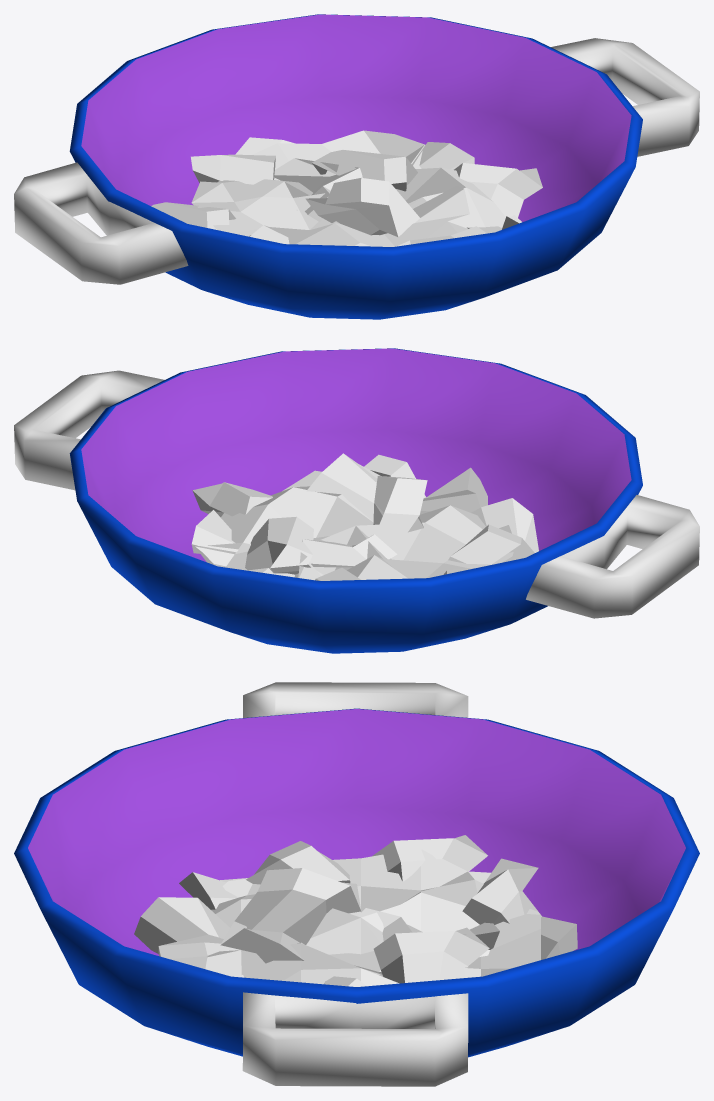
Rendered from ScrambledEggWokCooked.fbx.
3 views of the same model, one above another, from view 1: azimuth 30°, elevation 25°; view 2: azimuth 150°, elevation 25°; view 3: azimuth 270°, elevation 25° (orthographic). The views are drawn at different scales.
Parts seen in each view (by area): view 1: Cylinder, Cylinder.003, Slice2, Slice1, Slice3; view 2: Cylinder, Cylinder.003, Slice1, Slice3, Slice2; view 3: Cylinder, Cylinder.003, Slice1, Slice2, Slice3.
Part boxes in pixels (x1,y1,x2,y2): Cylinder: (69, 14, 642, 319); Cylinder.003: (14, 38, 699, 284); Slice2: (191, 130, 424, 221); Slice1: (151, 178, 419, 246); Slice3: (371, 142, 542, 246); Cylinder: (69, 348, 642, 653); Cylinder.003: (14, 370, 699, 618); Slice1: (353, 467, 538, 578); Slice3: (191, 453, 425, 554); Slice2: (195, 516, 402, 580); Cylinder: (14, 708, 699, 1057); Cylinder.003: (242, 682, 468, 1086); Slice1: (134, 835, 487, 954); Slice2: (329, 858, 577, 983); Slice3: (158, 918, 399, 986).
Size of the model in its own units: 66.75 by 11.75 by 54.02.
